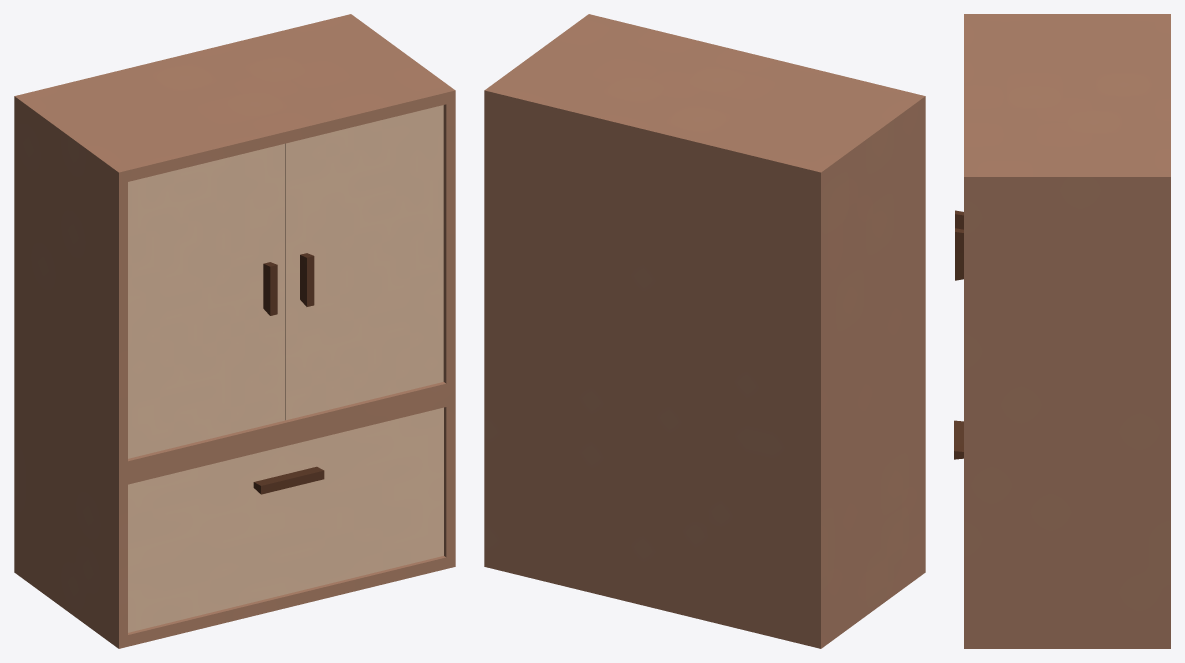
File: Closet_02_01.fbx
3 renders of one model, left to right at view 1: azimuth 30°, elevation 25°; view 2: azimuth 150°, elevation 25°; view 3: azimuth 270°, elevation 25°, orthographic.
Parts seen in each view (by area): view 1: Closet_02_01, Closet_02_Door_Bottom.002, Closet_Door_Upper_L.002, Closet_02_Door_Upper_R.002; view 2: Closet_02_01; view 3: Closet_02_01, Closet_Door_Upper_L.002, Closet_02_Door_Bottom.002.
Part boxes in pixels (x1=…): Closet_02_01: x1=14, y1=14, x2=455, y2=648; Closet_02_Door_Bottom.002: x1=128, y1=407, x2=443, y2=632; Closet_Door_Upper_L.002: x1=285, y1=105, x2=443, y2=420; Closet_02_Door_Upper_R.002: x1=128, y1=143, x2=284, y2=458; Closet_02_01: x1=484, y1=14, x2=925, y2=648; Closet_02_01: x1=964, y1=14, x2=1170, y2=648; Closet_Door_Upper_L.002: x1=955, y1=228, x2=963, y2=280; Closet_02_Door_Bottom.002: x1=954, y1=420, x2=963, y2=459.
Size of the model in its own units: 1.44 by 1.94 by 0.8096.
